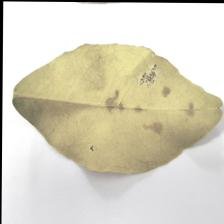black spot: (93, 53, 199, 138)
